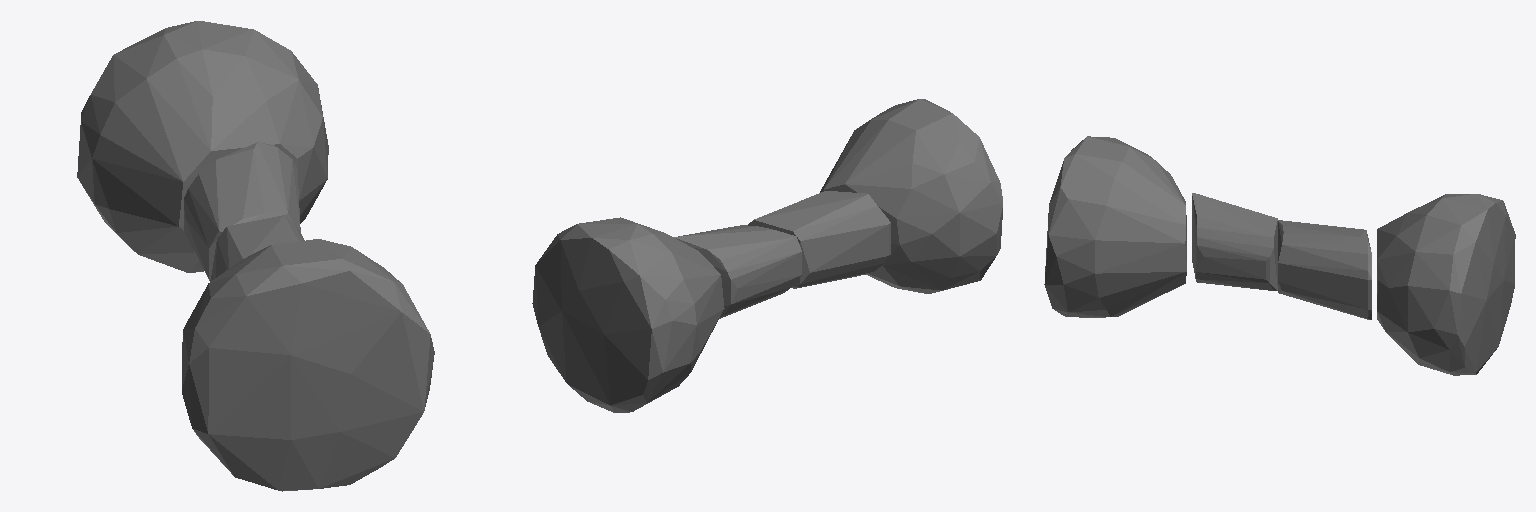
The robot description file, URDF, robot "dumpbell_001":
<?xml version="1.0" ?>
<robot name="dumpbell_001">
  <material name="color">
    <color rgba=".5 .5 .5 1"/>
  </material>

  <link name="base_link">
    <contact>
      <lateral_friction value="1.0"/>
      <rolling_friction value="0.001"/>
      <spinning_friction value="0.001"/>
      <inertia_scaling value="1.0"/>
    </contact>
    <inertial>
      <origin rpy="0 0 0" xyz="-3.09531e-05 -8.49783e-05 1.53859e-05"/>
       <mass value="0.1"/>
       <inertia ixx="1" ixy="0" ixz="0" iyy="1" iyz="0" izz="1"/>
    </inertial>

    <visual>
      <origin rpy="0 0 0" xyz="0 0 0"/>
      <geometry>
        <mesh filename="dumpbell_001_vhacd_0_of_4.obj" scale="1 1 1"/>
      </geometry>
      <material name="color"/>
    </visual>
    <visual>
      <origin rpy="0 0 0" xyz="0 0 0"/>
      <geometry>
        <mesh filename="dumpbell_001_vhacd_1_of_4.obj" scale="1 1 1"/>
      </geometry>
      <material name="color"/>
    </visual>
    <visual>
      <origin rpy="0 0 0" xyz="0 0 0"/>
      <geometry>
        <mesh filename="dumpbell_001_vhacd_2_of_4.obj" scale="1 1 1"/>
      </geometry>
      <material name="color"/>
    </visual>
    <visual>
      <origin rpy="0 0 0" xyz="0 0 0"/>
      <geometry>
        <mesh filename="dumpbell_001_vhacd_3_of_4.obj" scale="1 1 1"/>
      </geometry>
      <material name="color"/>
    </visual>

    <collision>
      <origin rpy="0 0 0" xyz="0 0 0"/>
      <geometry>
        <mesh filename="dumpbell_001_vhacd_0_of_4.obj" scale="1 1 1"/>
      </geometry>
    </collision>
    <collision>
      <origin rpy="0 0 0" xyz="0 0 0"/>
      <geometry>
        <mesh filename="dumpbell_001_vhacd_1_of_4.obj" scale="1 1 1"/>
      </geometry>
    </collision>
    <collision>
      <origin rpy="0 0 0" xyz="0 0 0"/>
      <geometry>
        <mesh filename="dumpbell_001_vhacd_2_of_4.obj" scale="1 1 1"/>
      </geometry>
    </collision>
    <collision>
      <origin rpy="0 0 0" xyz="0 0 0"/>
      <geometry>
        <mesh filename="dumpbell_001_vhacd_3_of_4.obj" scale="1 1 1"/>
      </geometry>
    </collision>

  </link>
</robot>

--- Facts derived from the render (not from the file) ---
The picture shows the robot from 3 angles, left to right: view 1: azimuth 30°, elevation 25°; view 2: azimuth 150°, elevation 25°; view 3: azimuth 270°, elevation 25°; orthographic projection.
Robot: dumpbell_001 — 1 links, 0 joints (none); root link base_link; default pose: all joints at 0.
Links seen in each view (by area): view 1: base_link; view 2: base_link; view 3: base_link.
Link boxes in pixels (x1,y1,x2,y2): base_link: (77, 21, 434, 491); base_link: (532, 99, 1002, 412); base_link: (1044, 136, 1515, 375).
Size in the robot's own frame: 0.168 by 0.2553 by 0.0996 metres.
Meshes: 4 distinct files referenced, 4 mesh visuals loaded (4 OBJ).